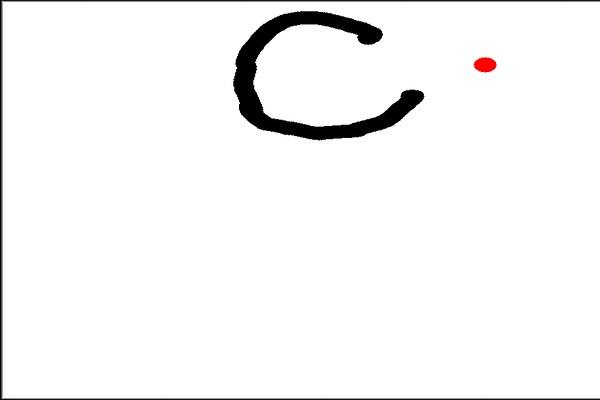C: (223, 4, 428, 143)
